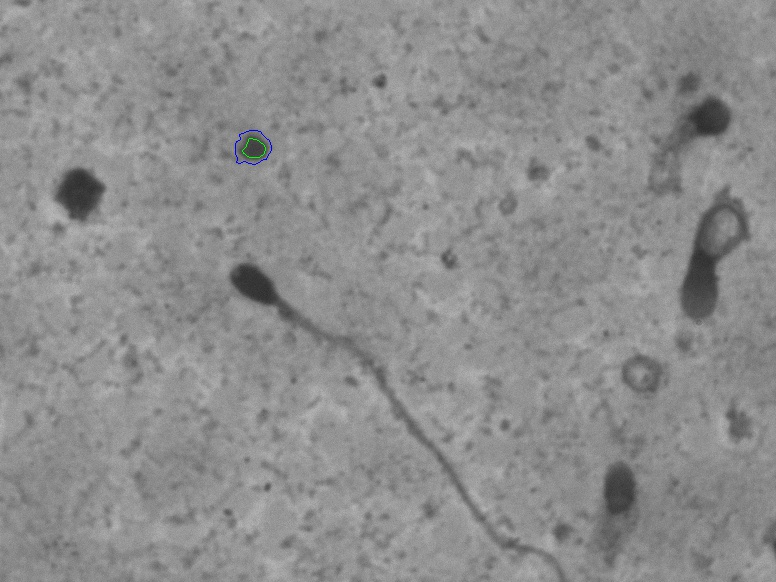Abnormal: (210, 250, 568, 577)
